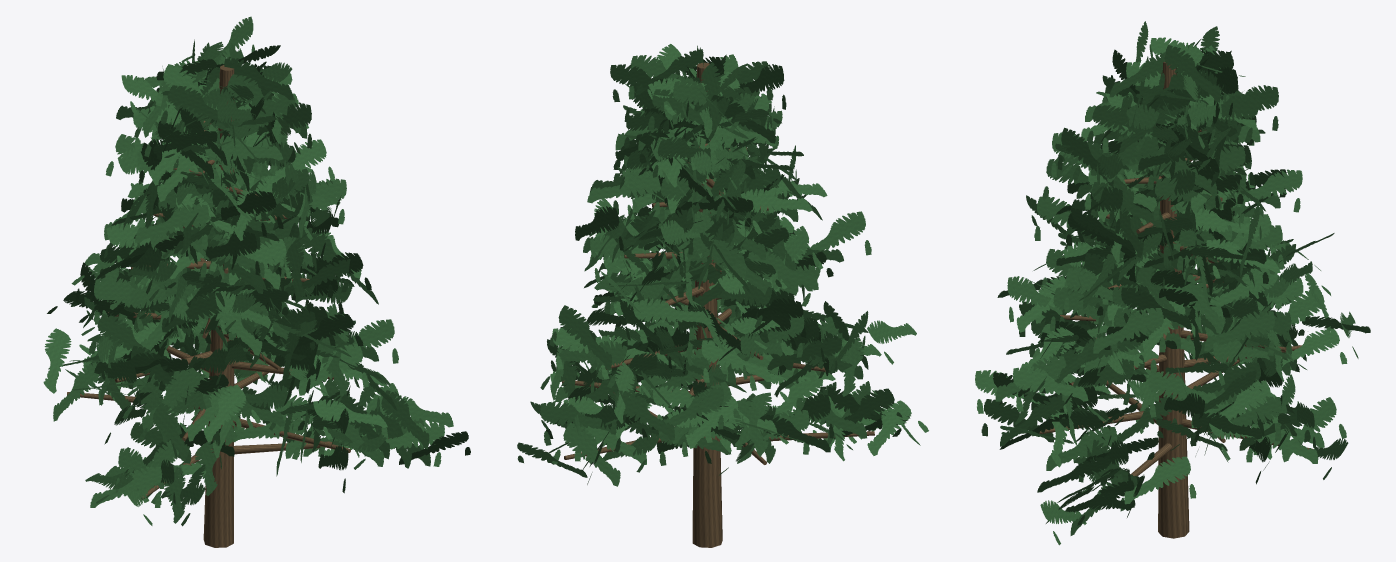
The picture shows the model from 3 angles, left to right: view 1: azimuth 30°, elevation 25°; view 2: azimuth 150°, elevation 25°; view 3: azimuth 270°, elevation 25°; orthographic projection.
Parts seen in each view (by area): view 1: pine-needle, pine-bark; view 2: pine-needle, pine-bark; view 3: pine-needle, pine-bark.
Part boxes in pixels (x1,y1,x2,y2): pine-needle: (43, 16, 470, 526); pine-bark: (67, 65, 388, 547); pine-needle: (517, 44, 928, 486); pine-bark: (562, 62, 874, 547); pine-needle: (975, 21, 1370, 545); pine-bark: (1039, 62, 1313, 538).
Size of the model in its own units: 8.33 by 10.46 by 7.97.
2 materials, 2 textured.
